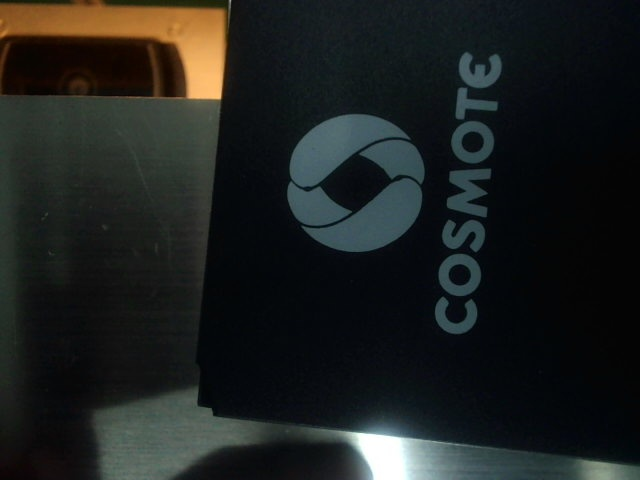AU_COSMOTE: (284, 39, 529, 341)
